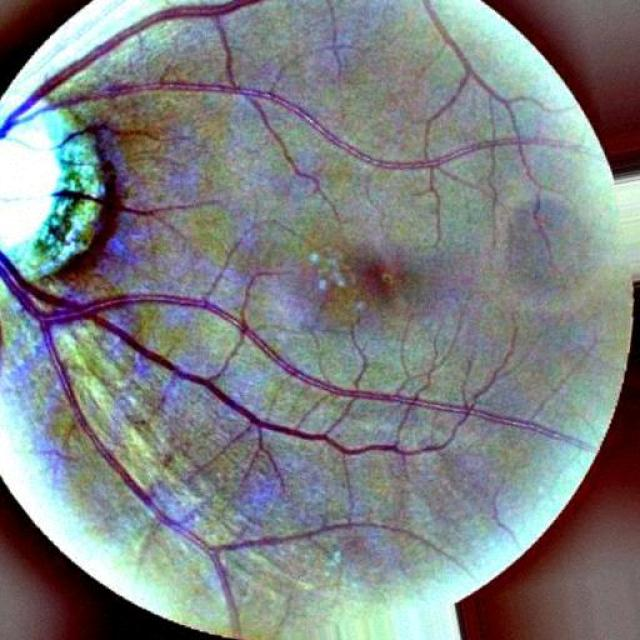Macula: (345, 248, 402, 296)
Nerves: (0, 250, 586, 618), (0, 0, 528, 169), (431, 30, 509, 119), (51, 175, 218, 216), (58, 122, 156, 148)
Optic Disk: (0, 115, 60, 246)
